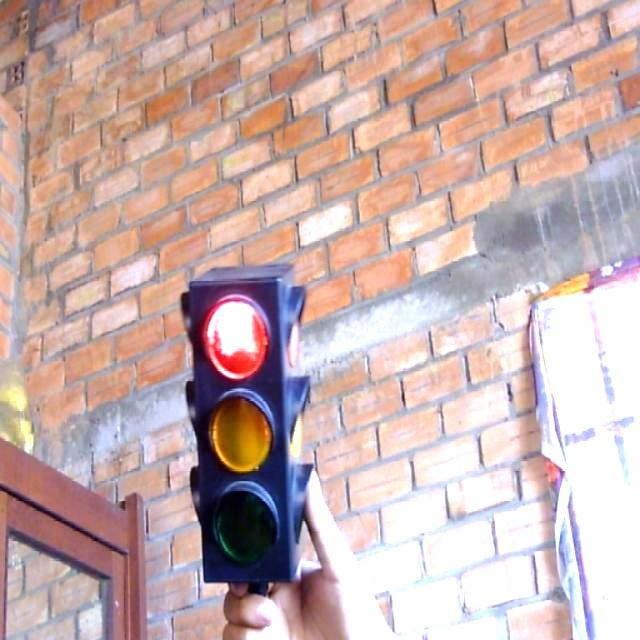Red: (180, 264, 316, 586)
